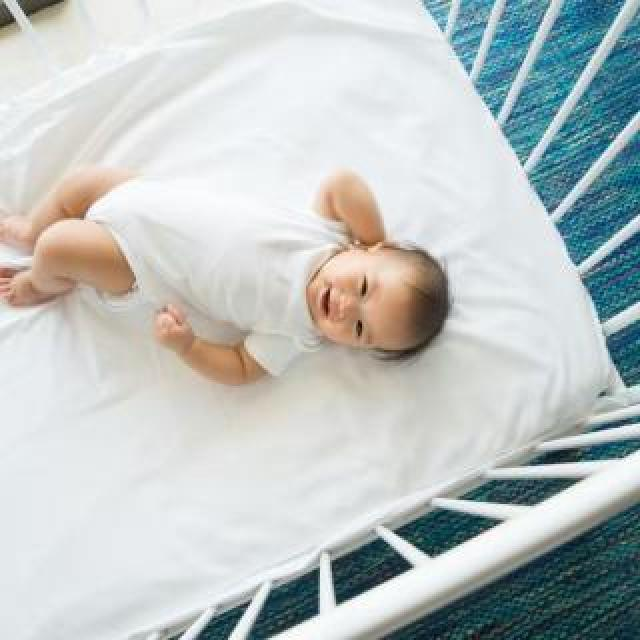baby: (2, 156, 456, 388)
